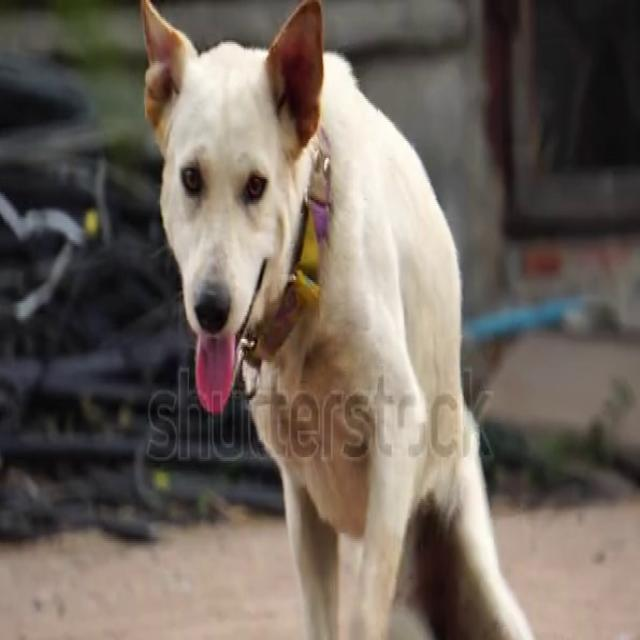normal_animals: (133, 0, 561, 638)
